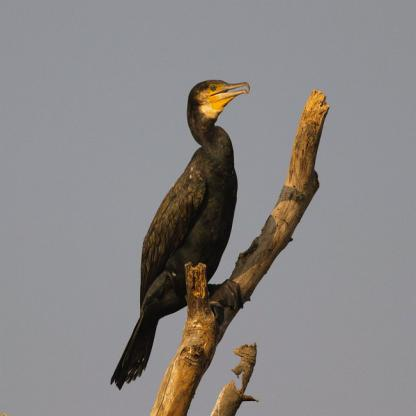Burung: (102, 79, 256, 390)
